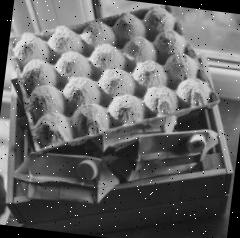paper: (9, 5, 221, 154), (10, 146, 121, 210), (0, 166, 15, 224), (184, 133, 206, 154)
